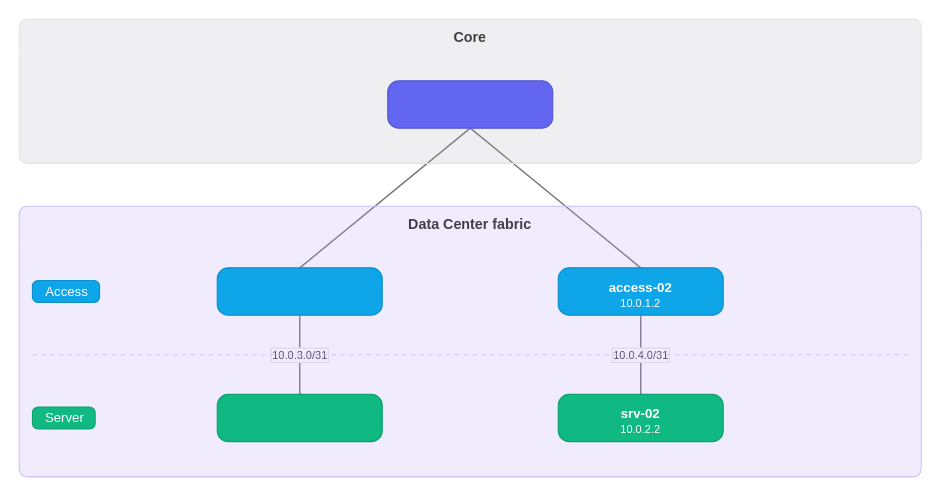
The diagram is 941 pixels wide and 496 high, and some of its shapes have lost their labels. The box of each missing label's shape, as (x1, y1, x2, y2) in pixels:
access-01 10.0.1.1: (216, 267, 382, 315)
core-01 10.0.0.1: (387, 80, 553, 128)
srv-01 10.0.2.1: (216, 393, 382, 442)
